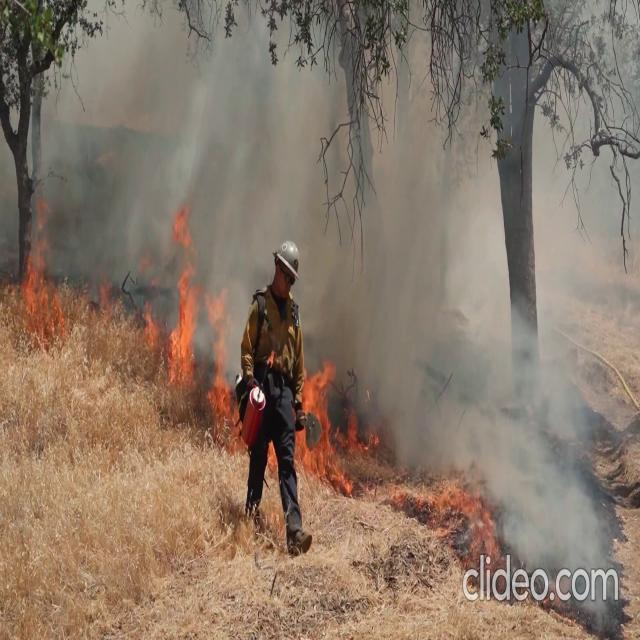Fire: (164, 231, 230, 405), (298, 350, 372, 490), (167, 236, 206, 390)
Smoke: (42, 17, 601, 370), (410, 272, 627, 588)
